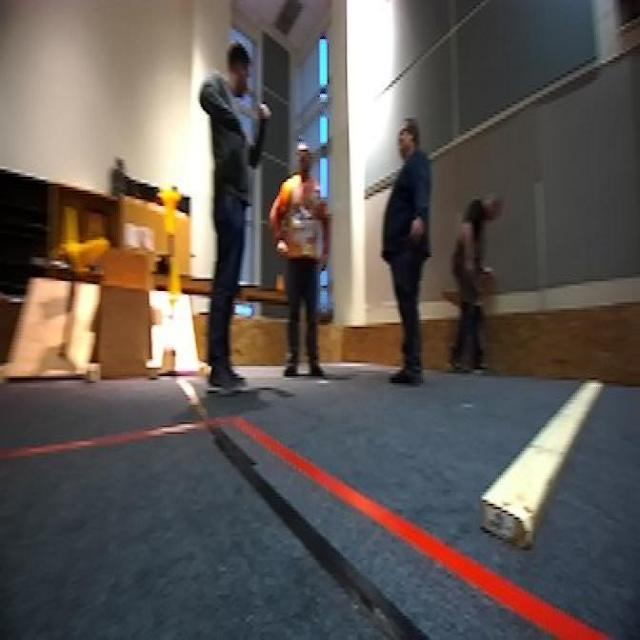frc_cone: (64, 232, 108, 278), (66, 233, 108, 279), (158, 187, 181, 233), (58, 208, 80, 255), (165, 257, 182, 306)
